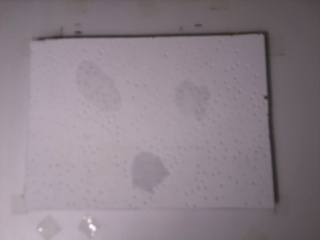Water_detected: (126, 154, 165, 193), (180, 78, 219, 116), (86, 87, 117, 115)
